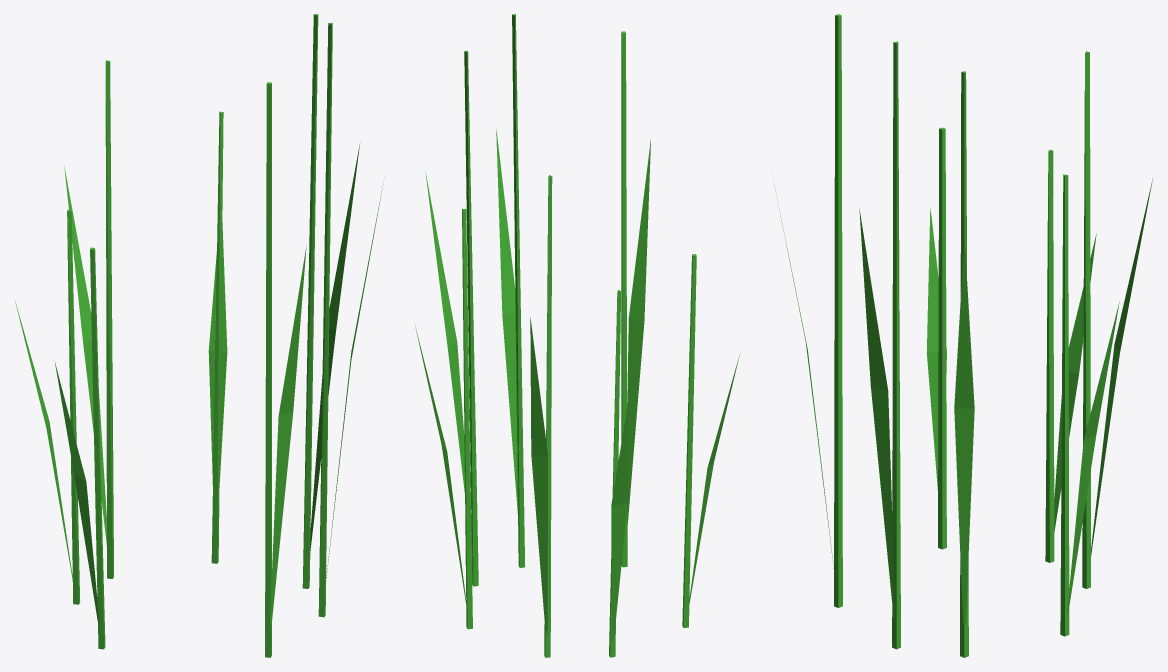
File: aq_freshwater_reeds.fbx
3 views of the same model, side by side, from view 1: azimuth 30°, elevation 25°; view 2: azimuth 150°, elevation 25°; view 3: azimuth 270°, elevation 25° (orthographic). The views are drawn at different scales.
Parts seen in each view (by area): view 1: aq_freshwater_reeds; view 2: aq_freshwater_reeds; view 3: aq_freshwater_reeds.
Boxes of the visible parts, x1,y1,x2,y2 form: aq_freshwater_reeds: (15, 14, 383, 657); aq_freshwater_reeds: (415, 14, 739, 657); aq_freshwater_reeds: (774, 14, 1152, 657).
Bounding box in the file's own units: 0.8 × 1.4 × 0.8.
